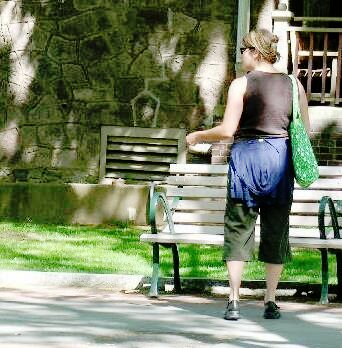person: (186, 28, 317, 325)
